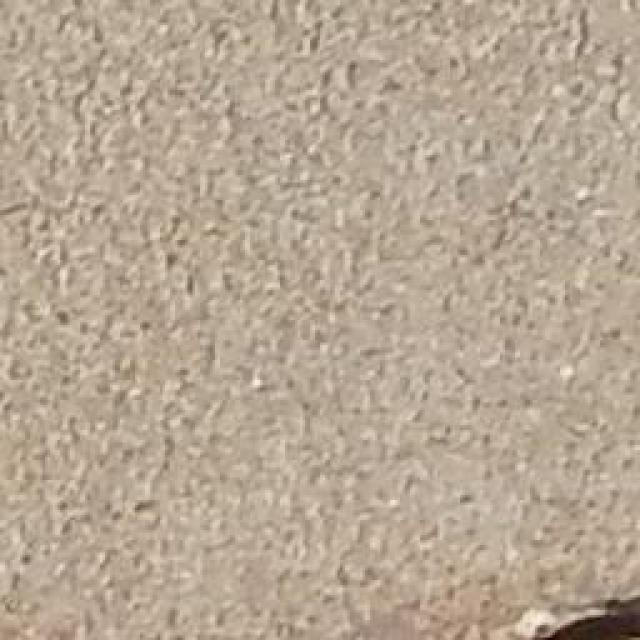concrete-crack: (541, 591, 640, 640)
